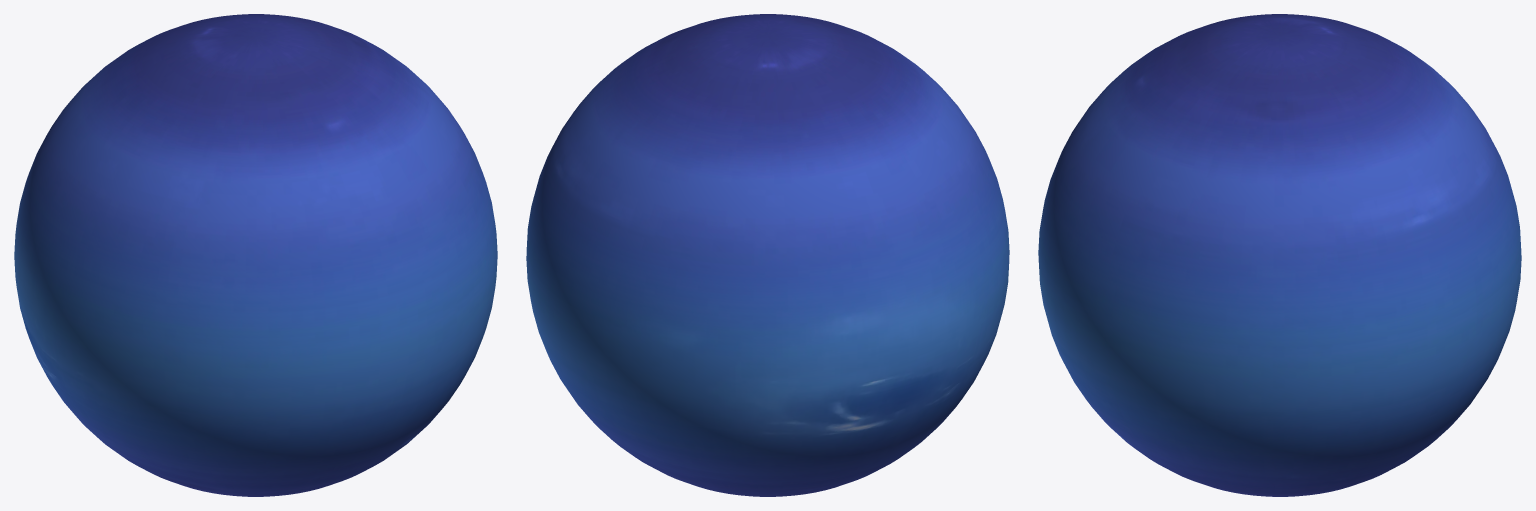
File: neptune.glb
3 views of the same model, side by side, from view 1: azimuth 30°, elevation 25°; view 2: azimuth 150°, elevation 25°; view 3: azimuth 270°, elevation 25° (orthographic).
Parts seen in each view (by area): view 1: Sphere.001; view 2: Sphere.001; view 3: Sphere.001.
Boxes of the visible parts, <box> form: Sphere.001: <box>14,14,497,496</box>; Sphere.001: <box>526,14,1009,496</box>; Sphere.001: <box>1038,14,1521,496</box>.
Size of the model in its own units: 2.02 by 2.02 by 2.02.
1 material, 1 textured.
